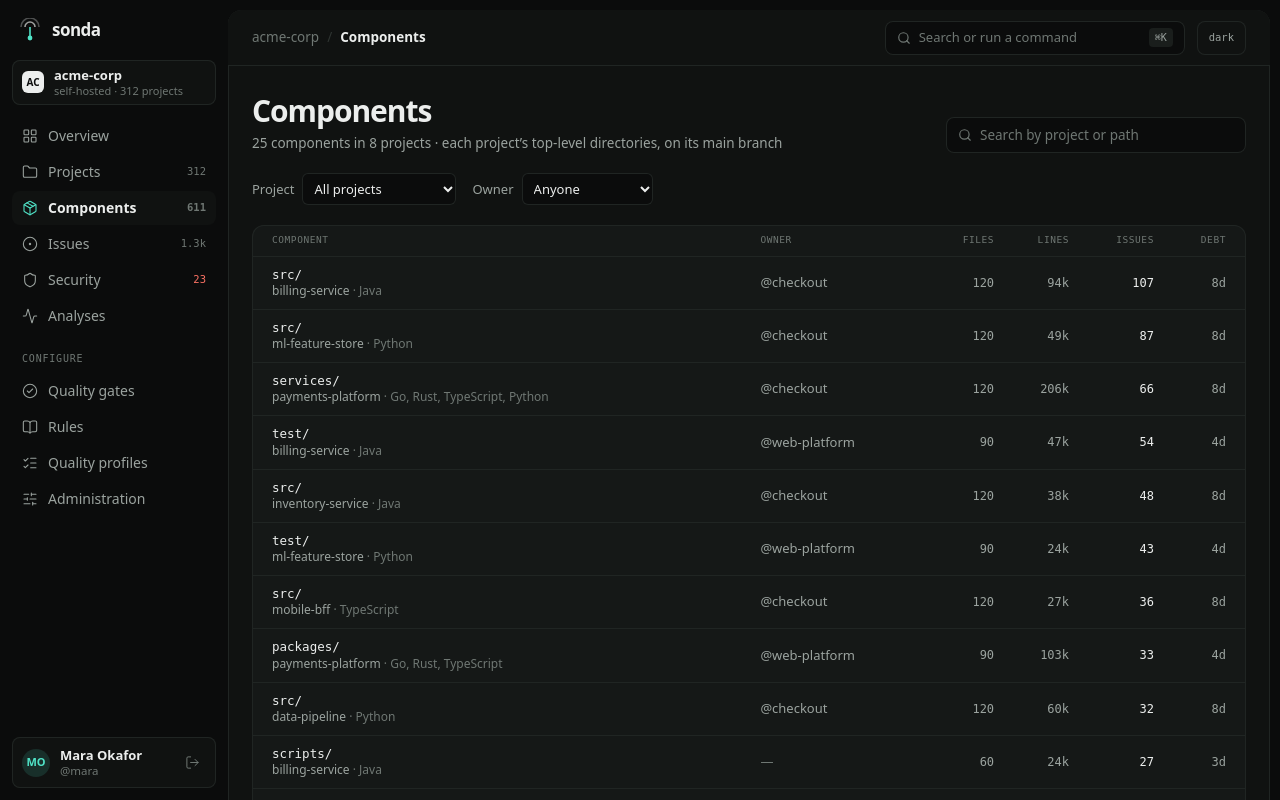
Test case: Components › lists components across projects, filtered by project, owner and search
The width and height of the screenshot is (1280, 800).
Select "@checkout" in the dropdown labelled "Owner" at (587, 189), box [522, 173, 653, 205]
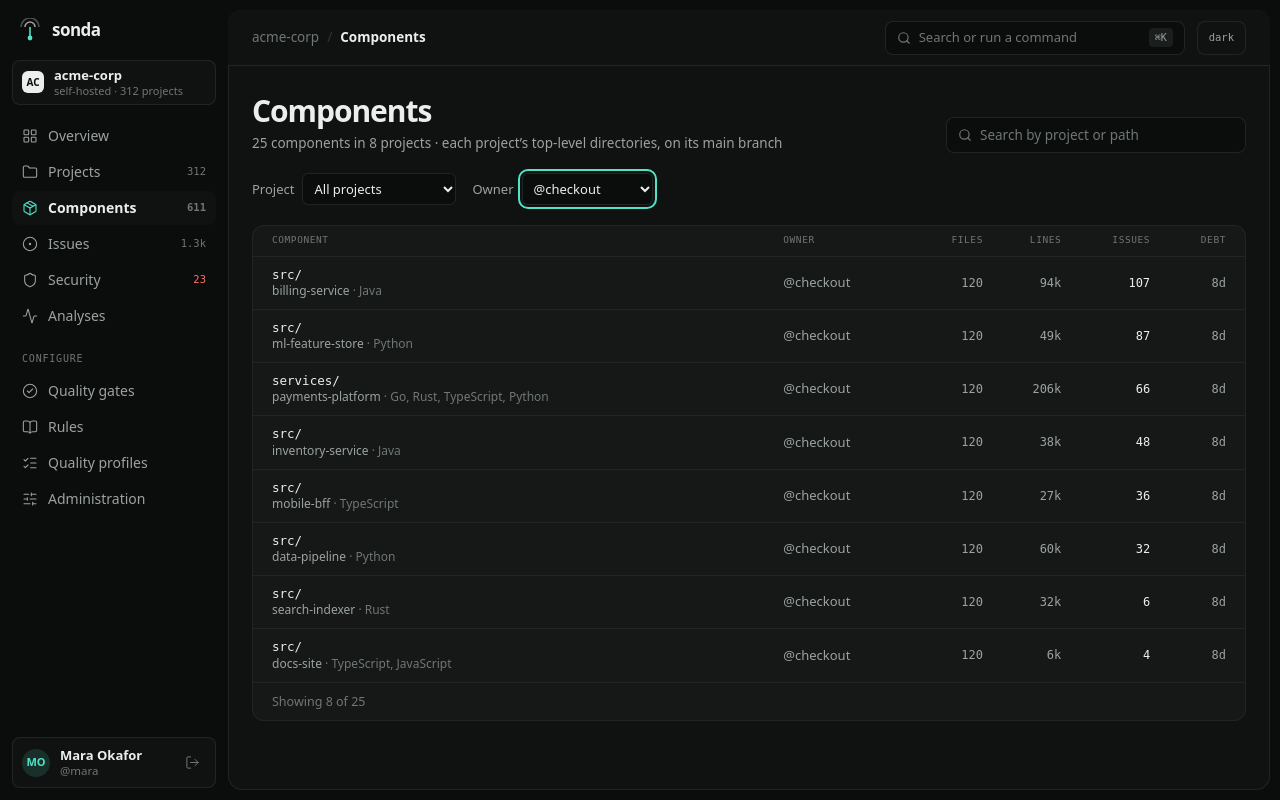
Expected: the row "src/ billing-service · Java @checkout 120 94k 107 8d" is shown, [252, 256, 1246, 309]
Expected: the row "src/ ml-feature-store · Python @checkout 120 49k 87 8d" is shown, [252, 309, 1246, 363]
Select "billing-service" in the dropdown labelled "Project" at (380, 189), box [302, 173, 456, 205]
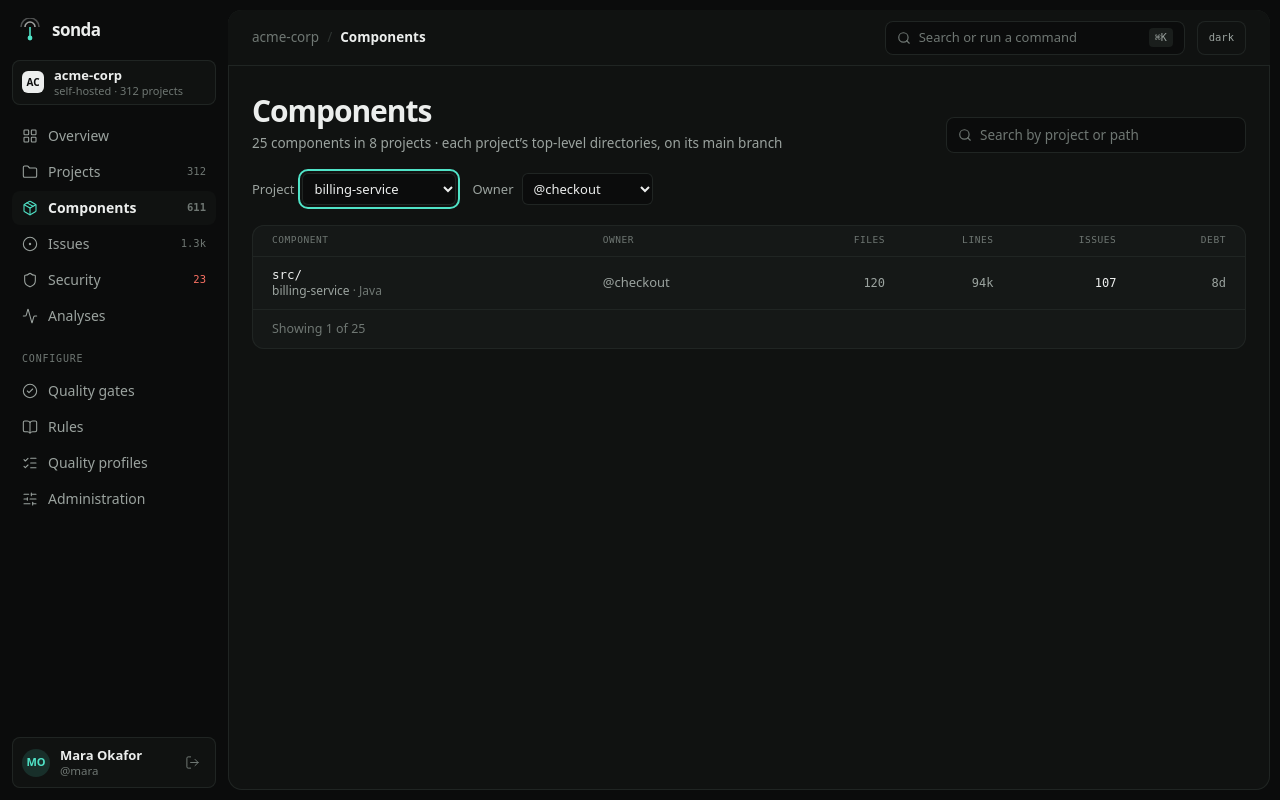
Type "nothing-here" into the field named "Search components" at (1107, 135), box [980, 125, 1234, 145]
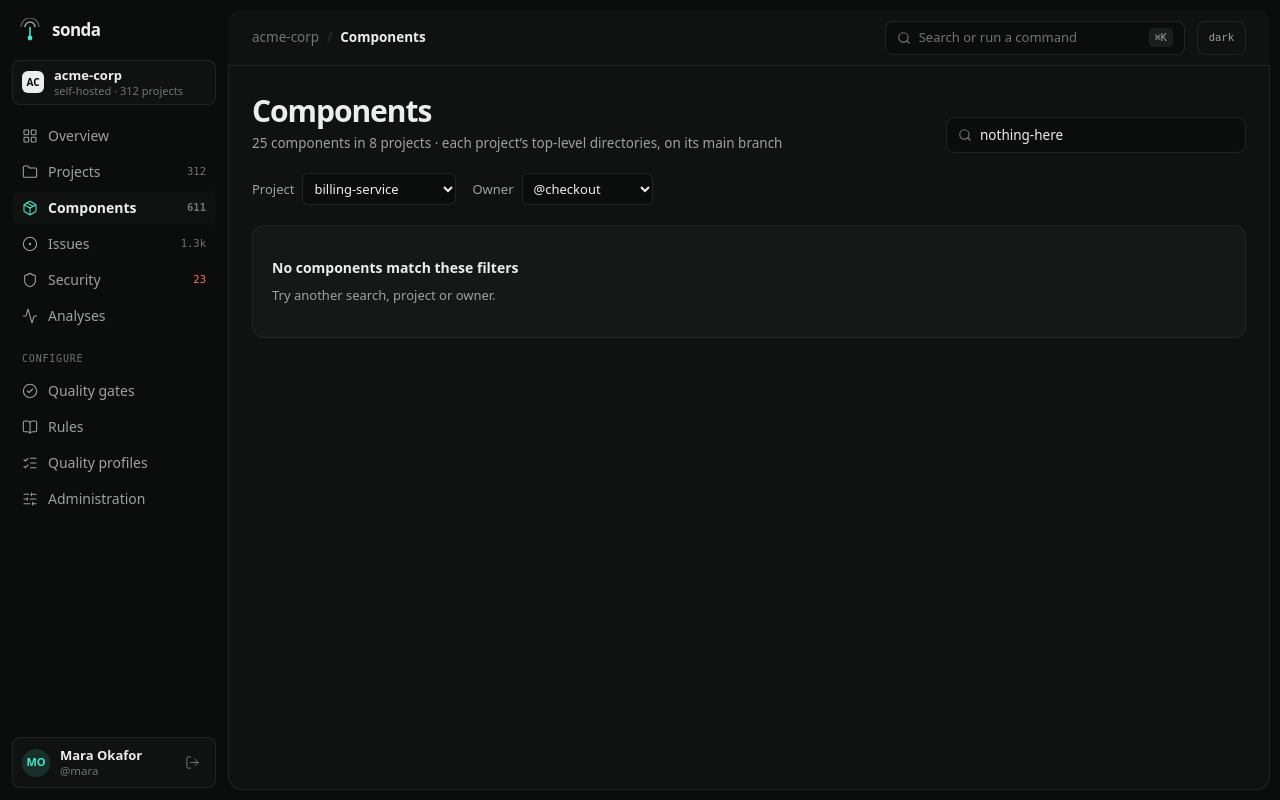
Expected: the text "No components match these filters" is shown, [272, 258, 518, 277]
